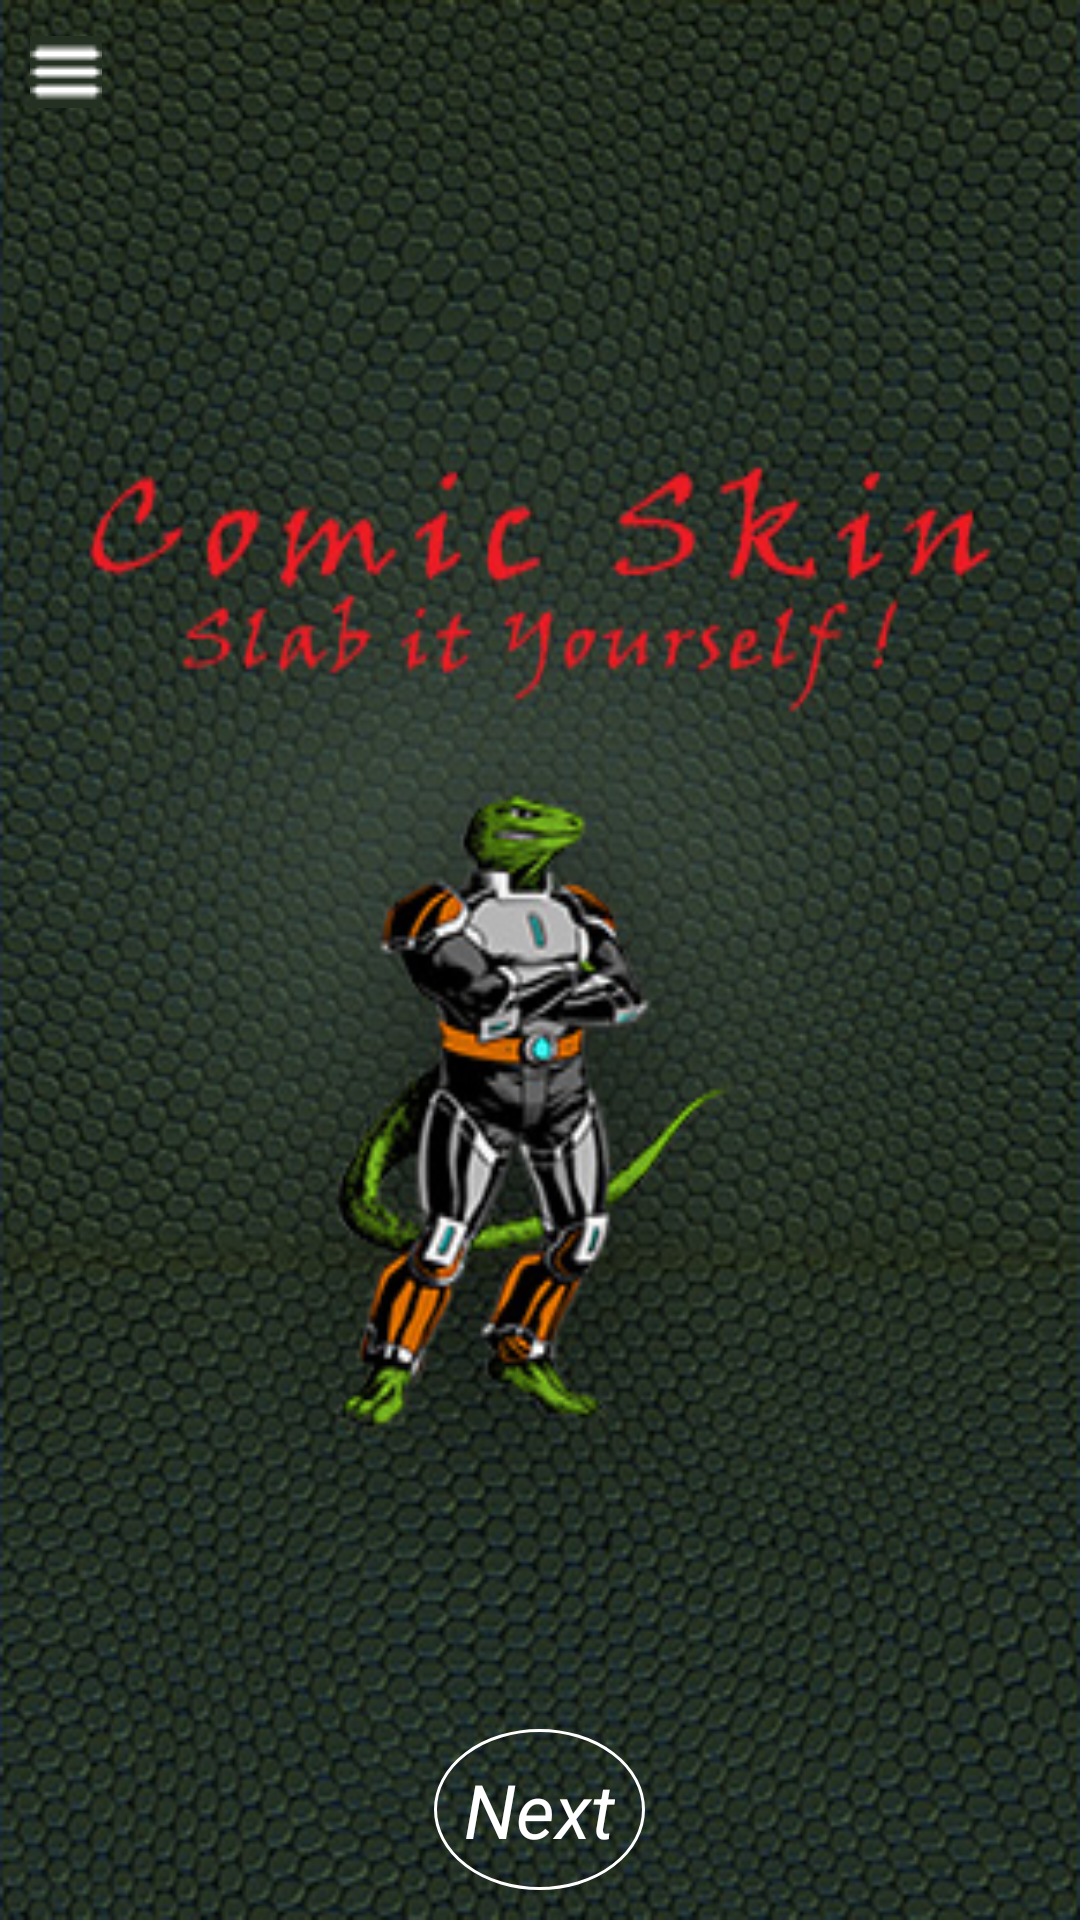

Icon bounding boxes for this 1080w x 1920h phone screenshot, format bbox(x1, y1, x2, y2):
himburge: bbox(30, 44, 102, 100)
